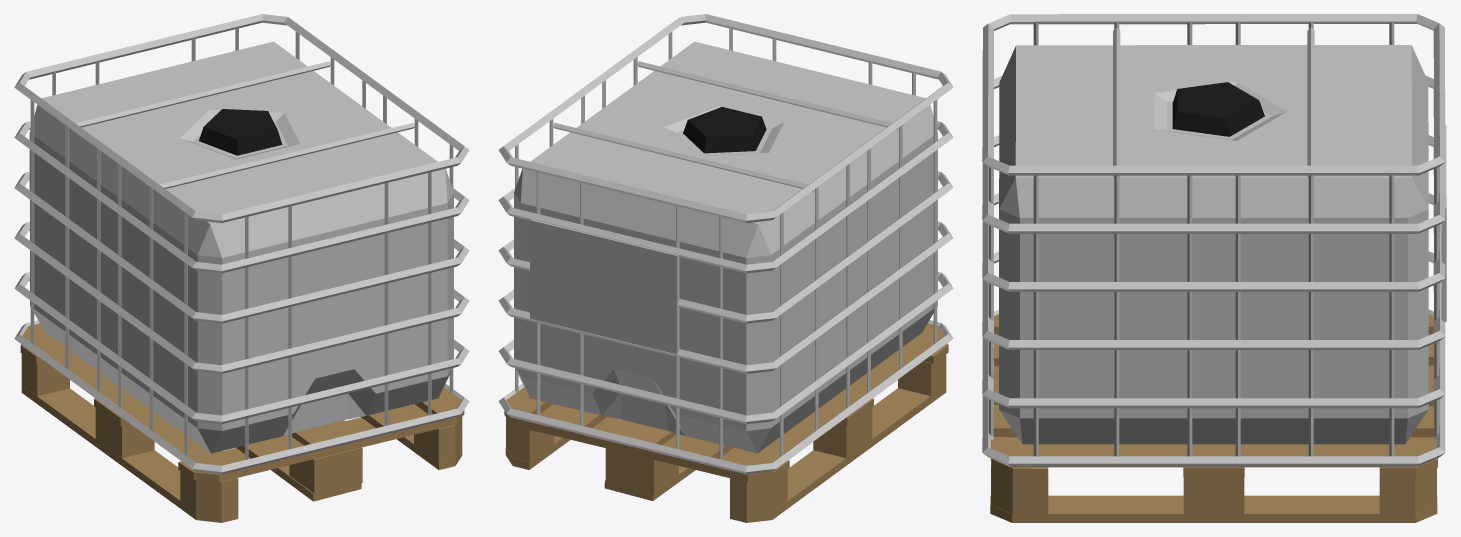
Rendered from active.Barrel-02.glb.
3 views of the same model, side by side, from view 1: azimuth 30°, elevation 25°; view 2: azimuth 150°, elevation 25°; view 3: azimuth 270°, elevation 25° (orthographic). The views are drawn at different scales.
Parts seen in each view (by area): view 1: active.Barrel 02; view 2: active.Barrel 02; view 3: active.Barrel 02.
Part boxes in pixels (box(x1,y1,x2,y2)): active.Barrel 02: box(14, 14, 469, 522); active.Barrel 02: box(498, 14, 953, 522); active.Barrel 02: box(982, 14, 1446, 522).
Bounding box in the file's own units: 0.8344 × 0.8921 × 1.04.
